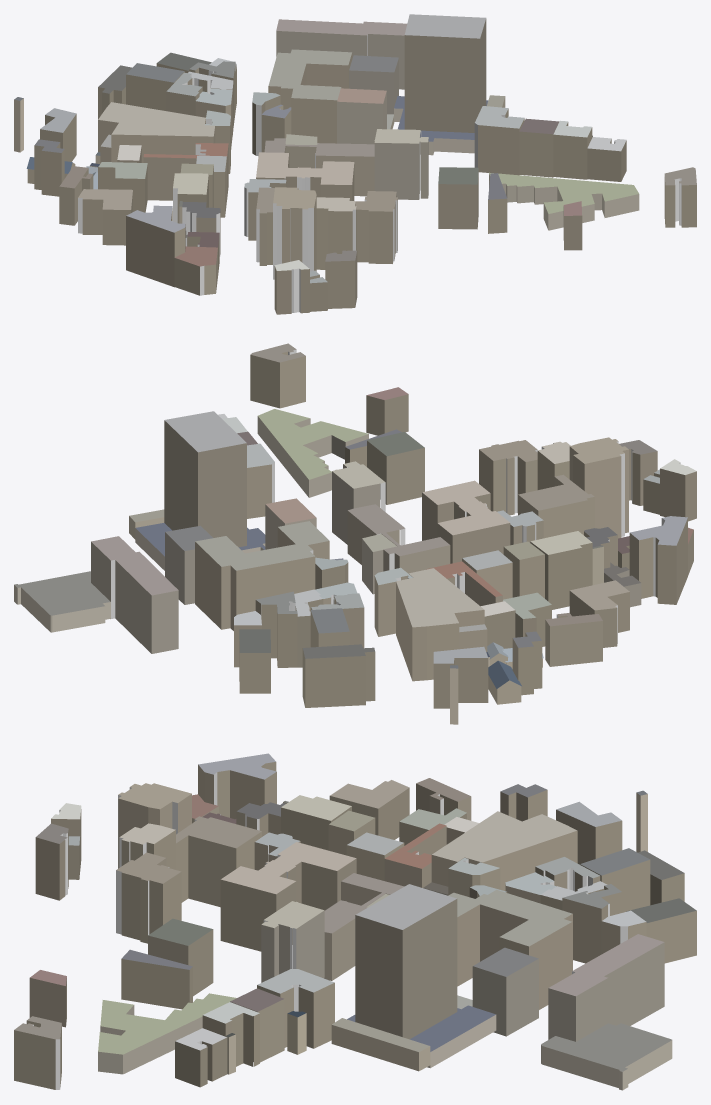
The picture shows the model from 3 angles, top to bottom: view 1: azimuth 30°, elevation 25°; view 2: azimuth 150°, elevation 25°; view 3: azimuth 270°, elevation 25°; orthographic projection. The views are drawn at different scales.
Visible parts, largest first — view 1: tuile; view 2: tuile; view 3: tuile.
Boxes of the visible parts, x1,y1,x2,y2 form: tuile: (14, 14, 696, 314); tuile: (14, 343, 696, 724); tuile: (14, 753, 696, 1090).
Bounding box in the file's own units: 257 × 60.61 × 264.
